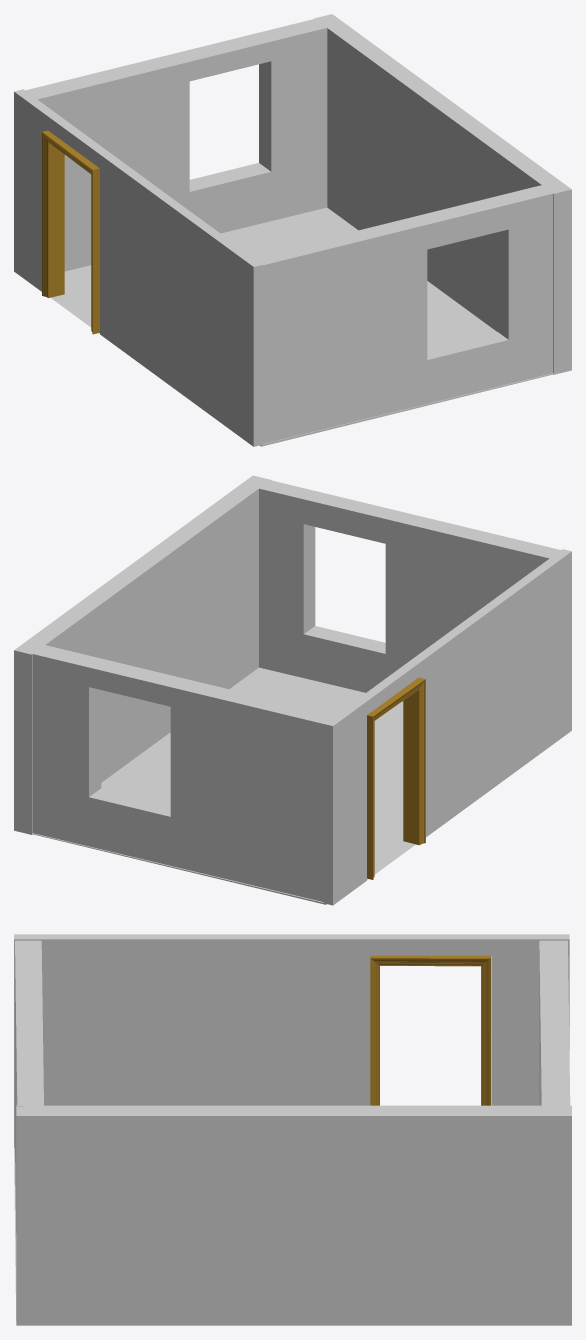
Rendered from room.fbx.
3 renders of one model, top to bottom at view 1: azimuth 30°, elevation 25°; view 2: azimuth 150°, elevation 25°; view 3: azimuth 270°, elevation 25°, orthographic. The views are drawn at different scales.
Visible parts, largest first — view 1: Cube.002, Cube.001, Cube.003, Cube, Plane, Cube.010; view 2: Cube.003, Cube.001, Cube, Cube.002, Plane, Cube.010; view 3: Cube, Cube.001, Cube.003, Cube.002, Cube.010.
Part boxes in pixels (x1,y1,x2,y2): Cube.002: (252, 185, 554, 446); Cube.001: (14, 89, 262, 446); Cube.003: (25, 18, 327, 271); Cube: (314, 14, 571, 374); Plane: (50, 207, 553, 444); Cube.010: (42, 130, 99, 334); Cube.003: (32, 645, 335, 904); Cube.001: (323, 549, 571, 905); Cube: (14, 475, 270, 834); Cube.002: (258, 480, 560, 701); Plane: (32, 667, 415, 902); Cube.010: (367, 677, 425, 879); Cube: (16, 1105, 571, 1325); Cube.001: (14, 934, 569, 1147); Cube.003: (539, 940, 570, 1106); Cube.002: (15, 940, 43, 1232); Cube.010: (370, 955, 490, 1105).
Bounding box in the file's own units: 7504 × 3999 × 9585.
